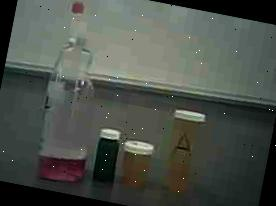Bottle A: (156, 100, 219, 206)
Bottle B: (115, 132, 158, 193)
Bottle C: (88, 121, 127, 190)
hazard: (22, 0, 124, 192)
